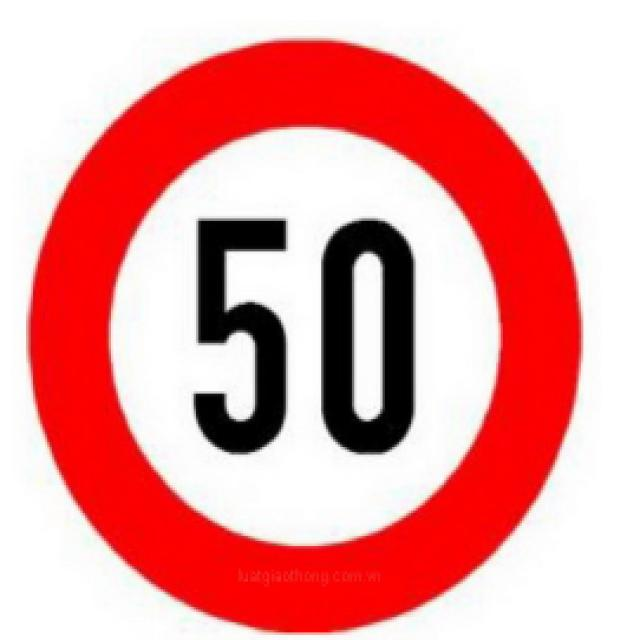Bien bao toc do toi da cho phep: (9, 9, 599, 640)
